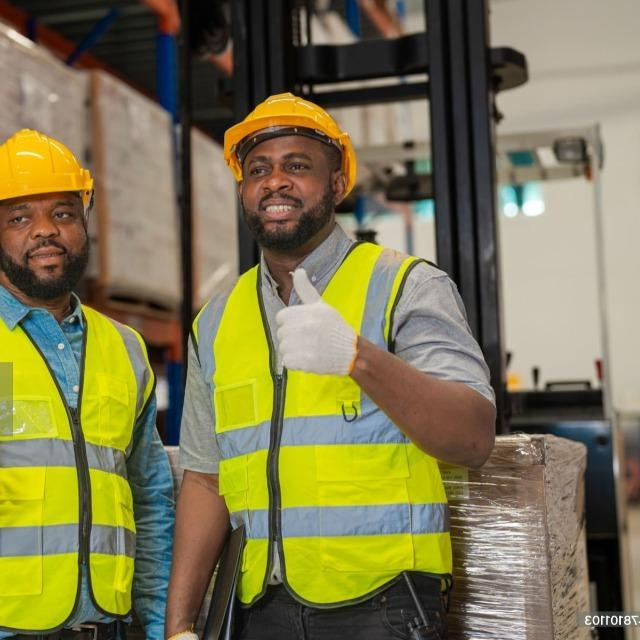Con_Casco: (223, 90, 356, 246)
Con_Chaleco: (195, 250, 440, 608), (0, 303, 158, 640)
